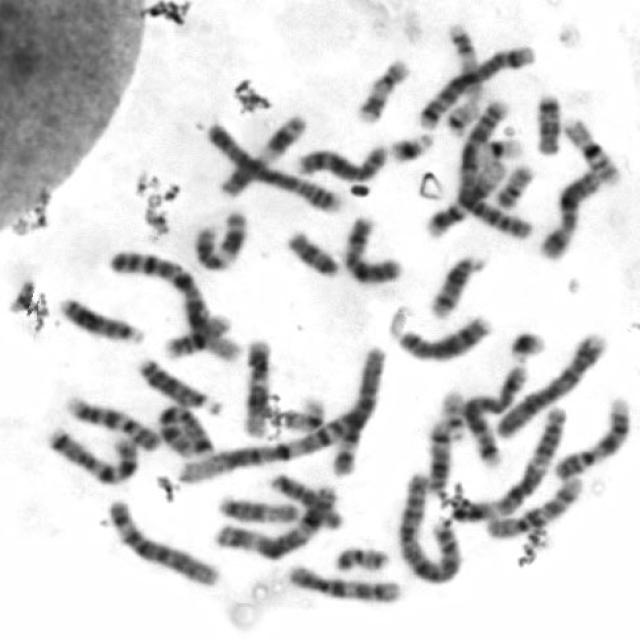A1: (170, 398, 364, 487), (104, 245, 243, 363)
A2: (452, 94, 534, 243), (393, 469, 462, 584)
A3: (443, 401, 569, 522), (210, 479, 340, 561)
B4: (490, 328, 610, 440), (202, 120, 343, 213)
B5: (412, 41, 536, 132), (459, 361, 531, 466)
C10: (480, 472, 586, 541), (282, 561, 404, 606)
C11: (215, 110, 310, 200), (190, 204, 249, 274)
C12: (420, 155, 508, 240), (238, 336, 273, 440)
C6: (101, 493, 222, 588), (328, 344, 386, 481)
C7: (42, 423, 139, 485), (153, 401, 218, 460)
C8: (389, 310, 492, 364), (290, 140, 388, 182)
C9: (549, 391, 632, 481), (62, 392, 160, 453)
D13: (133, 353, 223, 415), (53, 292, 144, 344)
D14: (425, 250, 486, 319), (422, 417, 454, 495)
D15: (265, 470, 343, 532), (213, 492, 300, 524)
E16: (559, 113, 623, 187), (160, 308, 233, 359)
E17: (352, 55, 412, 127), (444, 20, 484, 103)
E18: (282, 226, 340, 278), (530, 90, 564, 158)
F19: (272, 390, 328, 437), (479, 134, 525, 162)
F20: (491, 160, 537, 211), (330, 542, 390, 574)
G21: (386, 128, 436, 165), (504, 325, 549, 365)
G22: (442, 95, 482, 137), (436, 387, 467, 441)
X: (533, 165, 608, 262), (338, 212, 405, 286)
